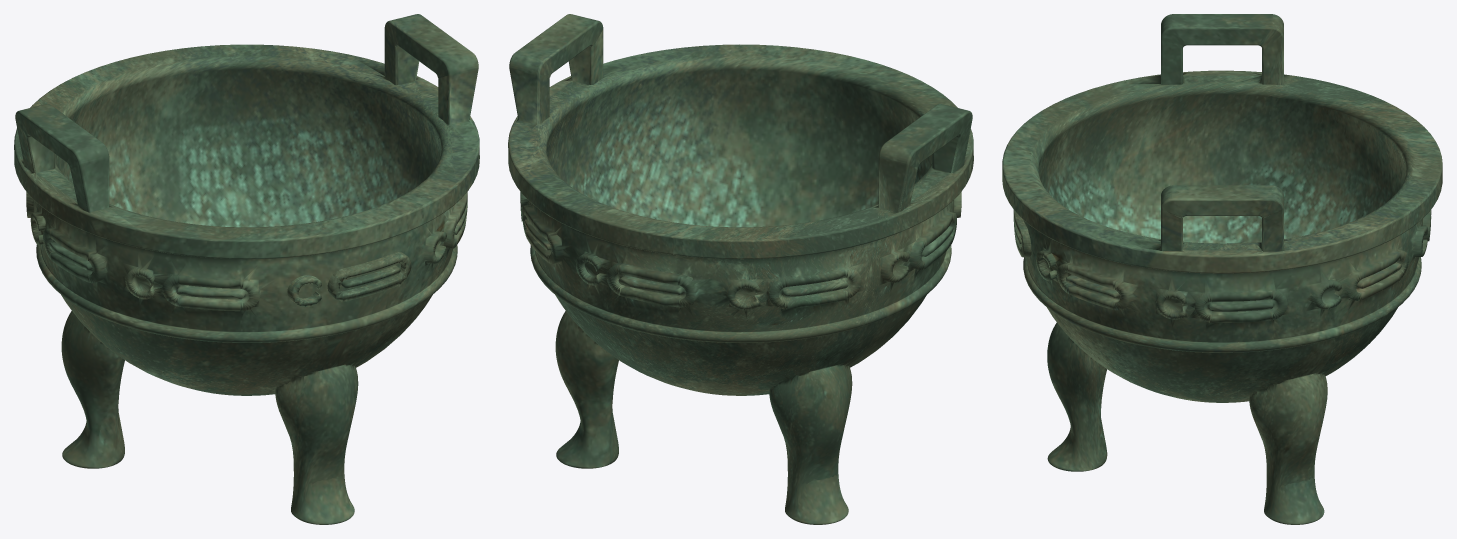
Rendered from asset.glb.
3 views of the same model, side by side, from view 1: azimuth 30°, elevation 25°; view 2: azimuth 150°, elevation 25°; view 3: azimuth 270°, elevation 25° (orthographic). The views are drawn at different scales.
Visible parts, largest first — view 1: Duke_Mao_Tripod; view 2: Duke_Mao_Tripod; view 3: Duke_Mao_Tripod.
Boxes of the visible parts, x1,y1,x2,y2 form: Duke_Mao_Tripod: [14, 14, 479, 524]; Duke_Mao_Tripod: [508, 14, 973, 524]; Duke_Mao_Tripod: [1002, 14, 1442, 524].
Size of the model in its own units: 0.5069 by 0.4492 by 0.507.
Materials: 1 (1 with a texture image).
